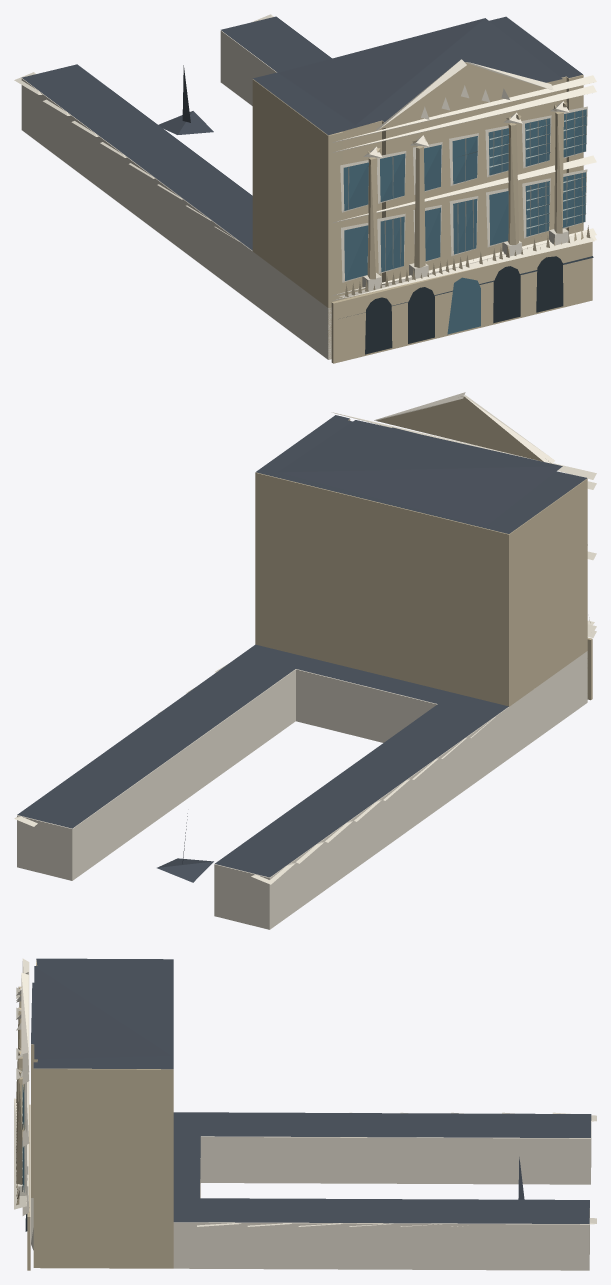
The model's file is hollandsche-schouwburg.lod1.glb.
The picture shows the model from 3 angles, top to bottom: view 1: azimuth 30°, elevation 25°; view 2: azimuth 150°, elevation 25°; view 3: azimuth 270°, elevation 25°; orthographic projection. The views are drawn at different scales.
Visible parts, largest first — view 1: hollandsche-schouwburg; view 2: hollandsche-schouwburg; view 3: hollandsche-schouwburg.
Boxes of the visible parts, left/top/right/bottom form: hollandsche-schouwburg: left=14, top=14, right=596, bottom=363; hollandsche-schouwburg: left=14, top=392, right=596, bottom=929; hollandsche-schouwburg: left=14, top=958, right=596, bottom=1270.
Size of the model in its own units: 16.43 by 16.3 by 35.56.
